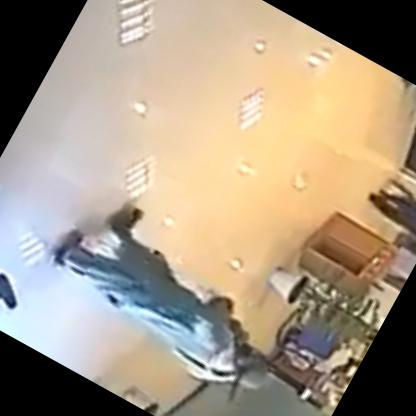Human Body: (13, 178, 320, 415)
